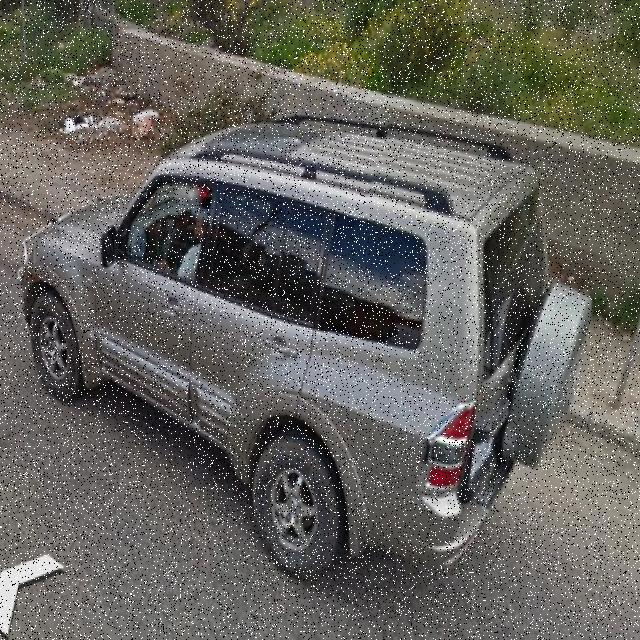cars: (27, 126, 588, 537)
